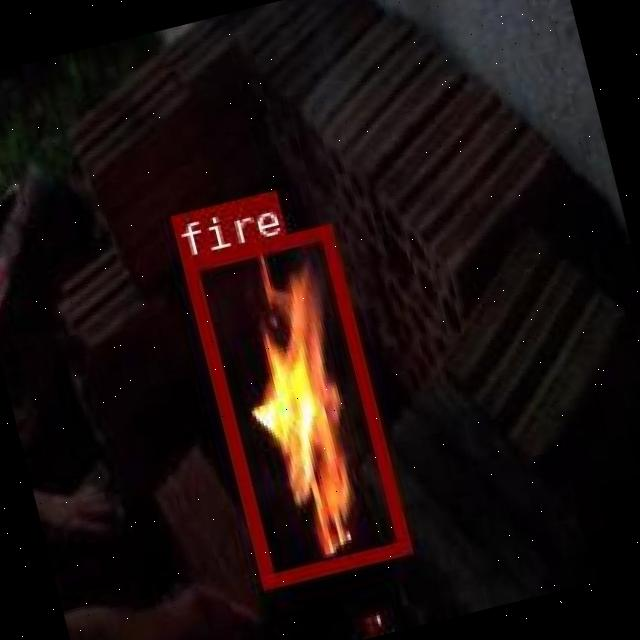fire: (179, 222, 409, 588)
